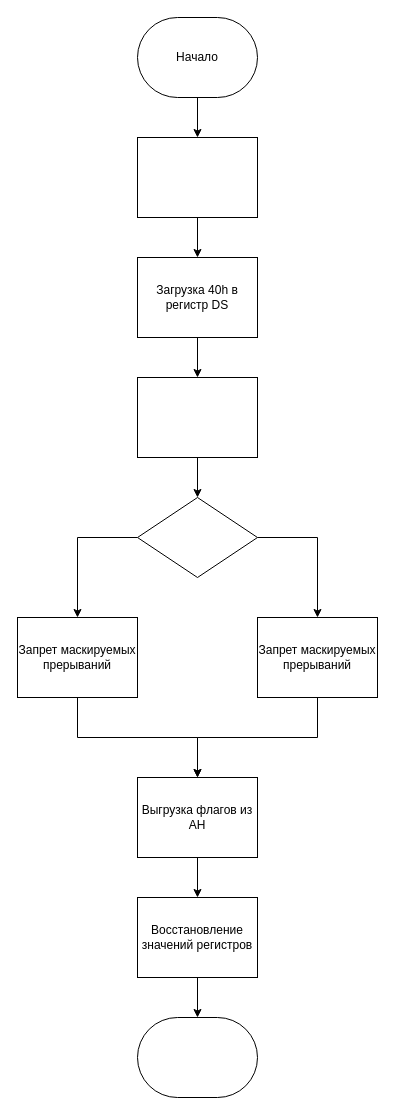
Image size: 395x1115. Some labels were removed from this diagram. Here are the shapes that lost their labels. From the top down, the centre of each, then its label:
At point (197, 177): "Сохранение значений регистров".
At point (197, 417): "Загрузка флагов в AH".
At point (197, 1057): "Конец".
